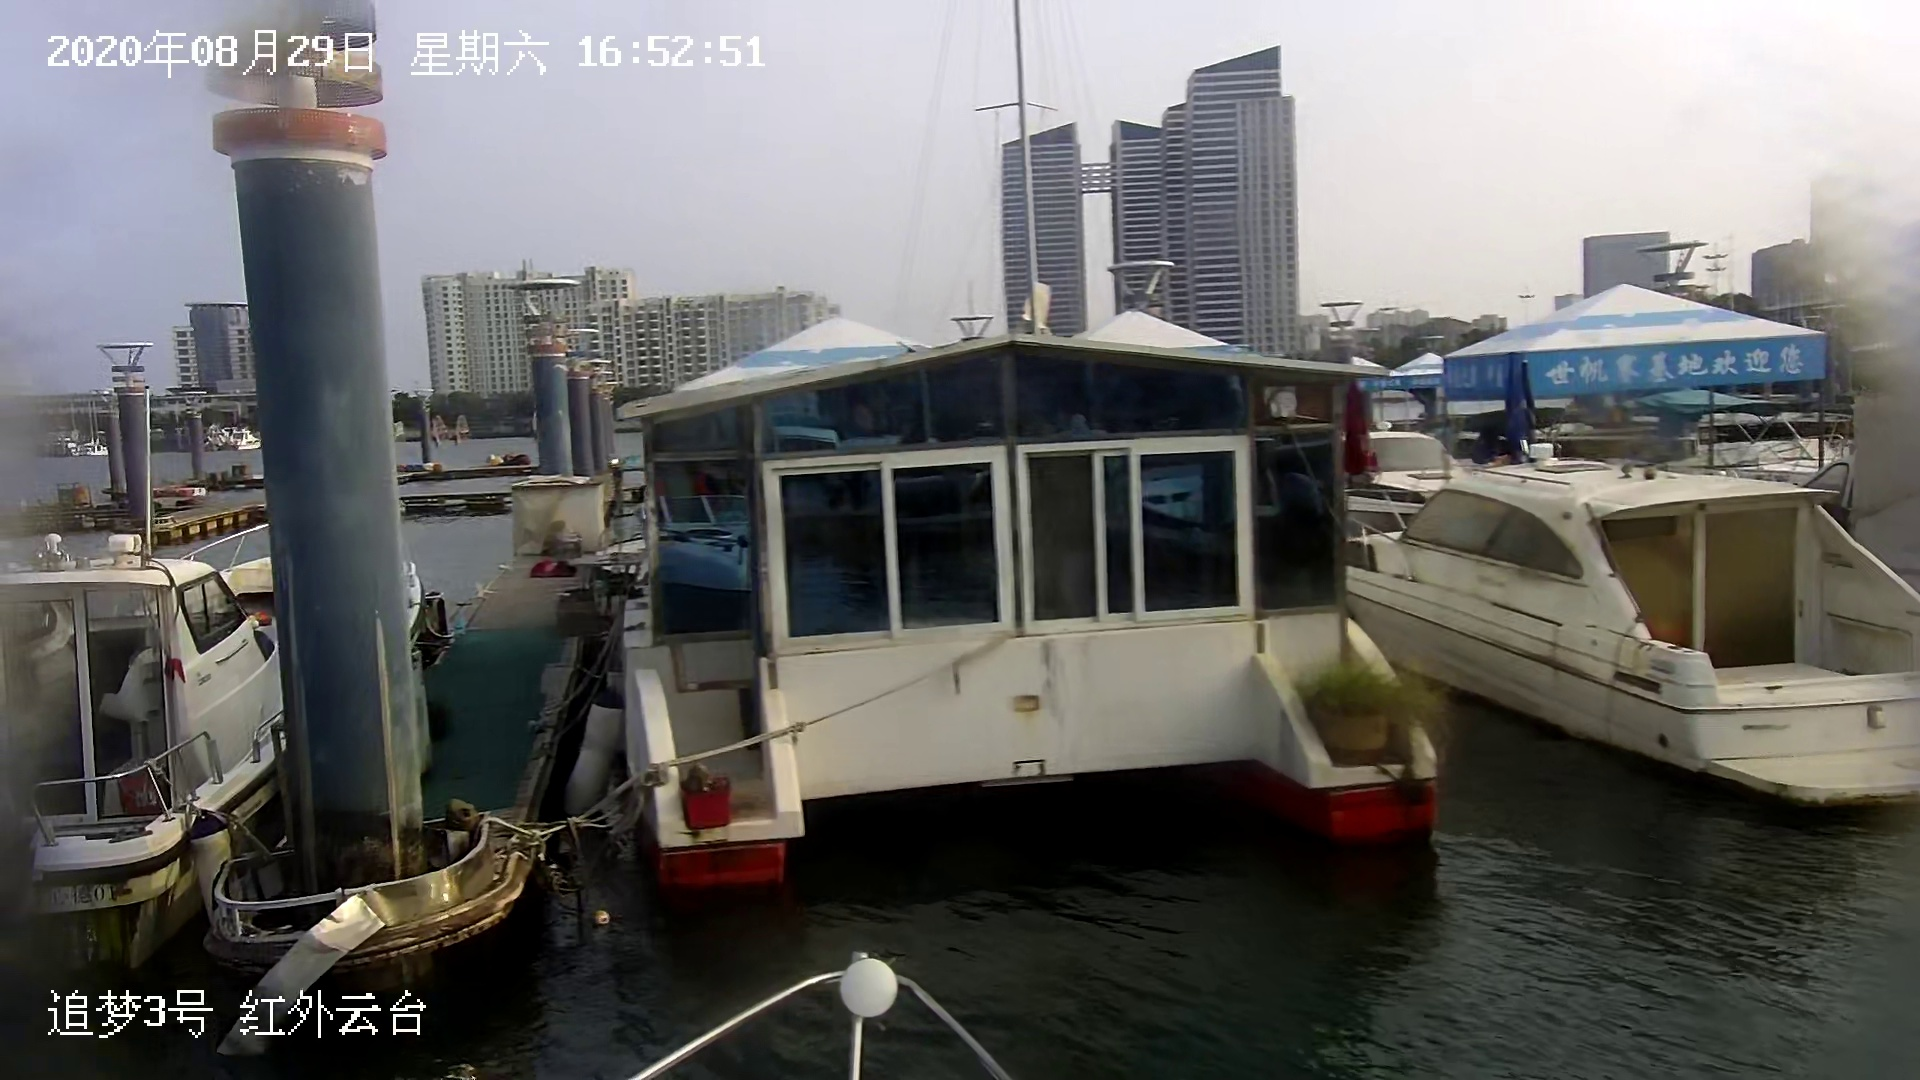barrier: (621, 318, 1395, 902), (1344, 454, 1920, 798), (9, 517, 444, 932)
coast: (9, 5, 1917, 988)
